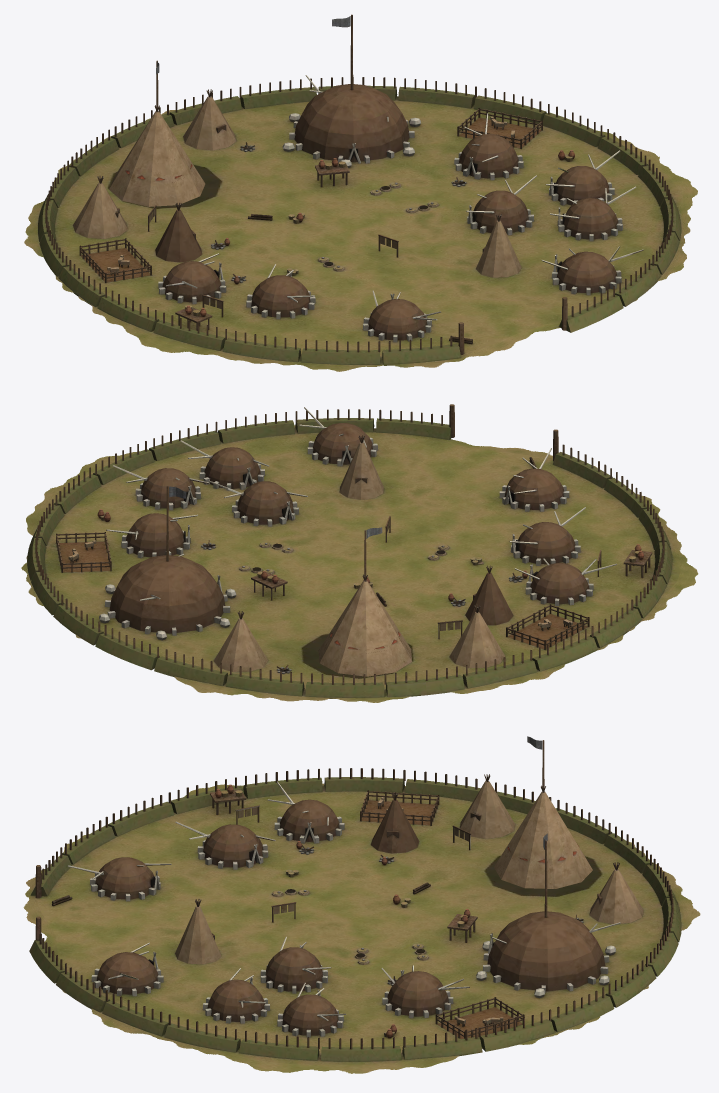
File: stone-town-medium-b-steppe.glb
3 views of the same model, one above another, from view 1: azimuth 30°, elevation 25°; view 2: azimuth 150°, elevation 25°; view 3: azimuth 270°, elevation 25° (orthographic). The views are drawn at different scales.
Parts seen in each view (by area): view 1: LOD0; view 2: LOD0; view 3: LOD0.
Boxes of the visible parts, x1,y1,x2,y2 form: LOD0: (24,14,697,371); LOD0: (21,404,698,702); LOD0: (23,736,700,1073).
Size of what is drawn, in the model's own units: 5.94 by 1.23 by 5.83.
3 materials, 3 textured.
